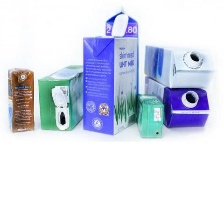carton: (77, 32, 136, 139), (141, 74, 211, 129), (142, 39, 216, 88), (36, 60, 83, 133), (3, 65, 36, 135), (132, 92, 165, 140), (101, 4, 141, 37)
